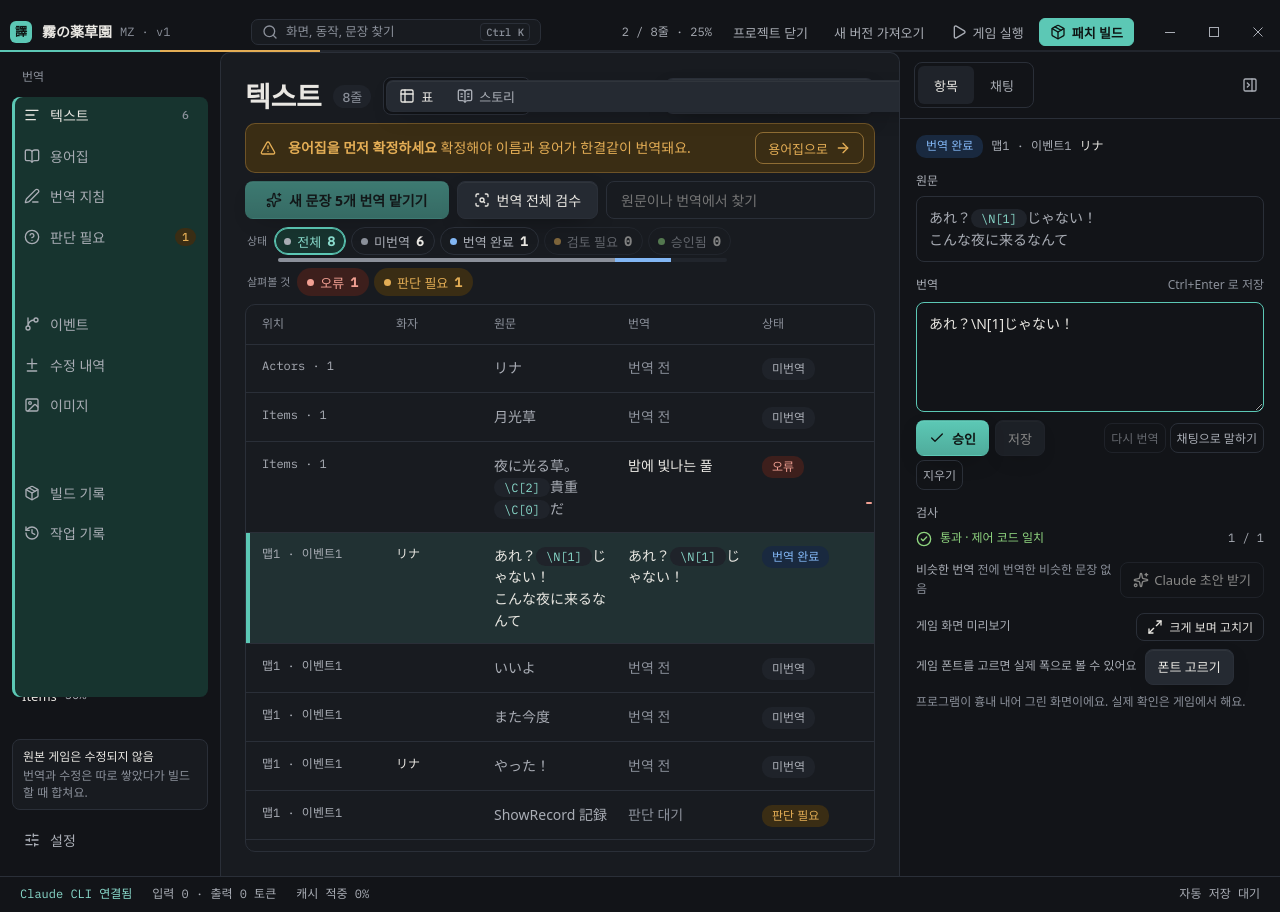
Test: 승인할 수 없으면 검사 목록이 흔들린다
Expected: the text "霧の薬草園" is shown, top-left (42, 21), bottom-right (112, 43)
Click the button "승인" at (952,438), box top-left (916, 420), bottom-right (989, 456)
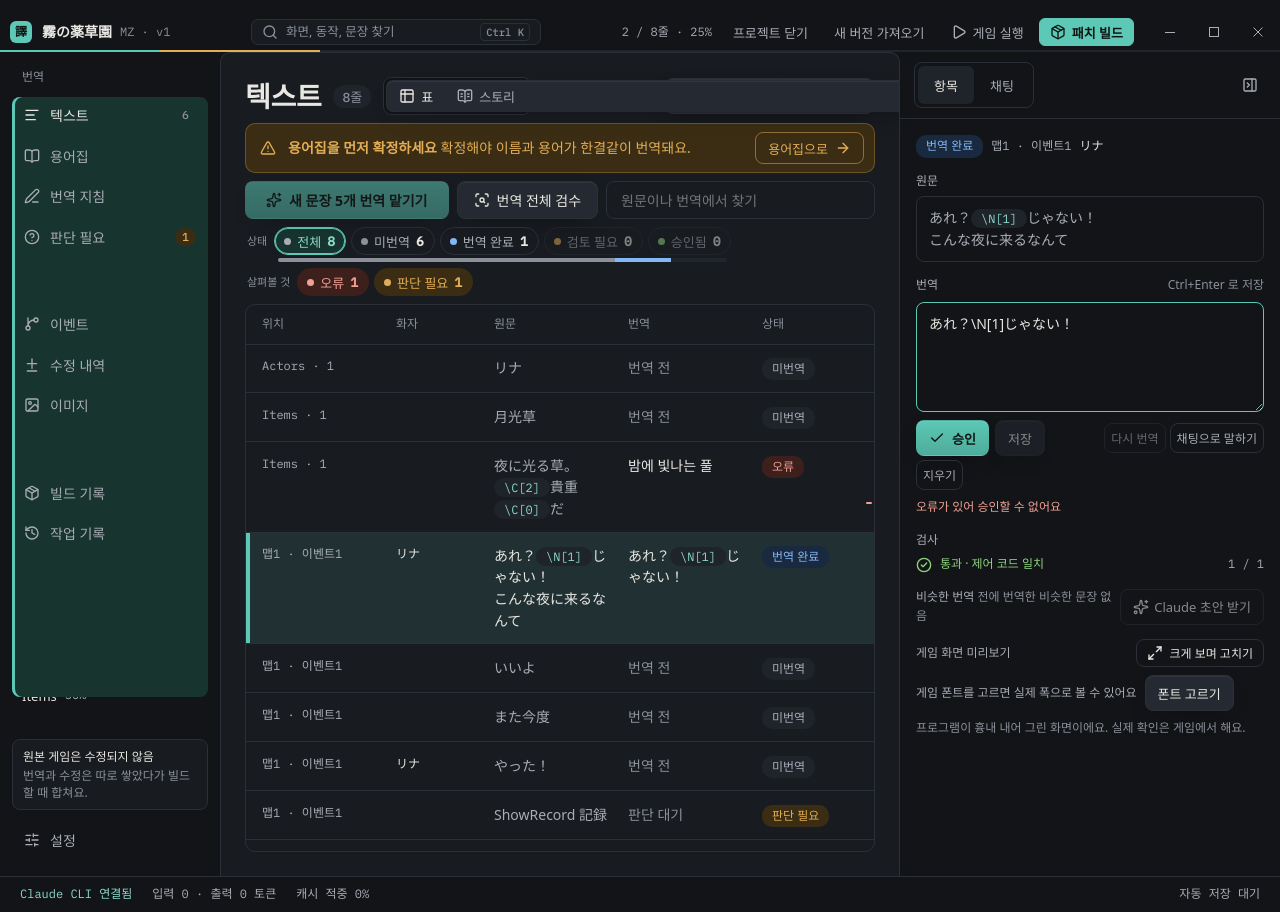
Expected: the text "오류가 있어 승인할 수 없어요" is shown, top-left (916, 498), bottom-right (1061, 515)
